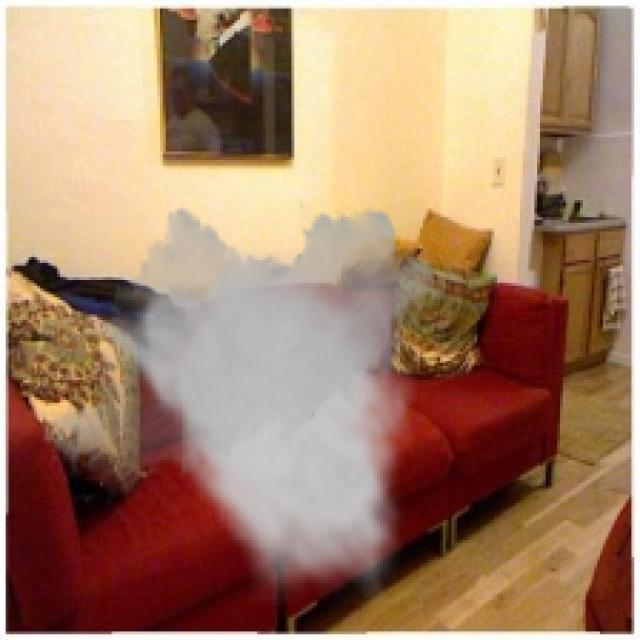Smoke: (40, 197, 449, 606)
